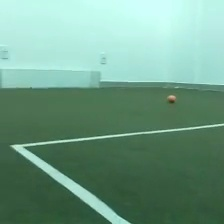ball: (166, 93, 177, 104)
goal: (1, 65, 103, 91)
